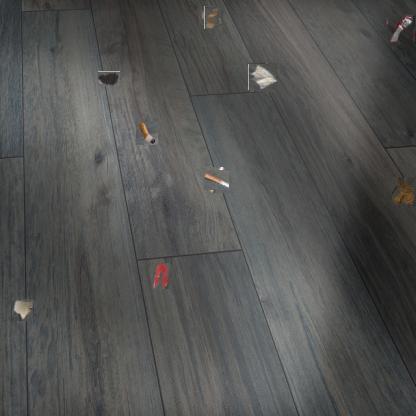dirty: (386, 15, 414, 43), (249, 64, 277, 91), (392, 178, 416, 208), (205, 168, 227, 192), (136, 122, 158, 144), (12, 299, 34, 321), (202, 8, 221, 27)
liquid: (152, 263, 170, 289), (98, 71, 120, 86)
